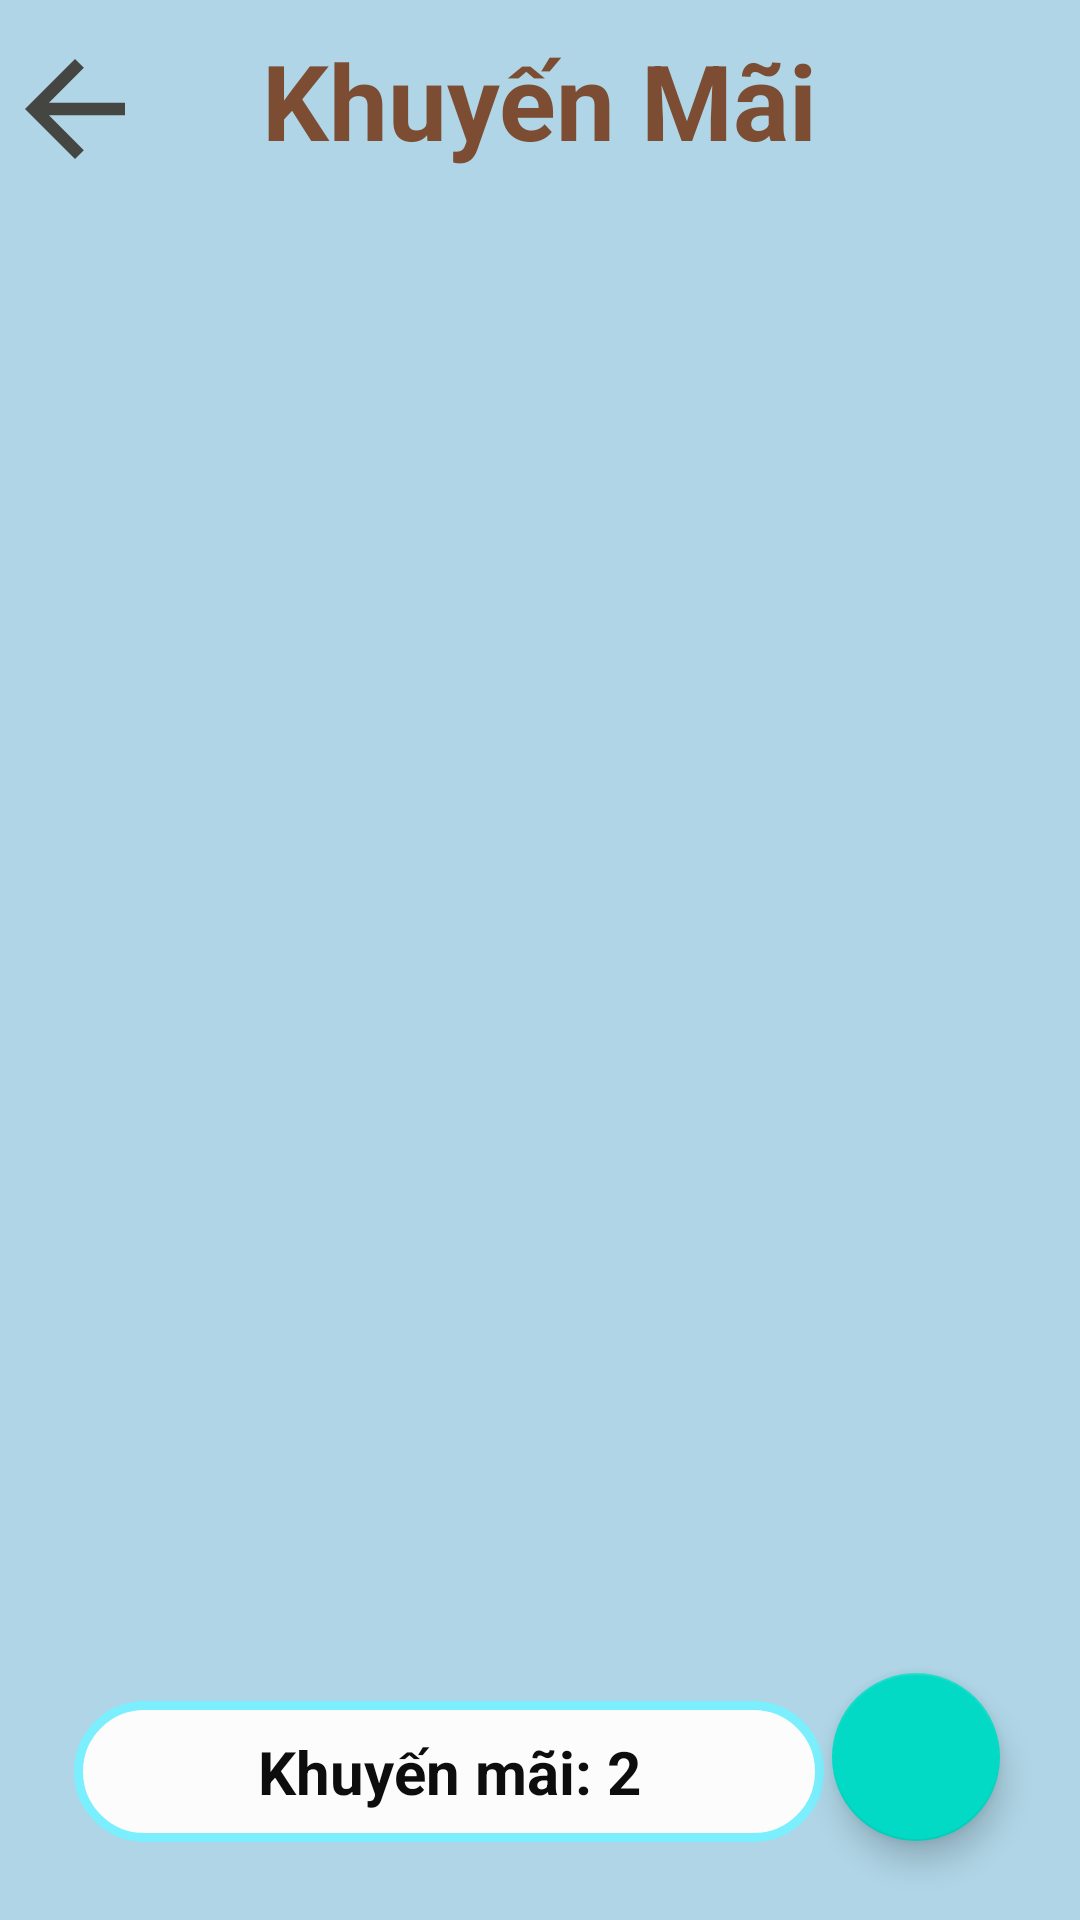

Named icons in this screenshot (1080 x 1920) and their bounding boxes, region(x1, y1, x2, y2):
arrow back: region(25, 59, 125, 159)
